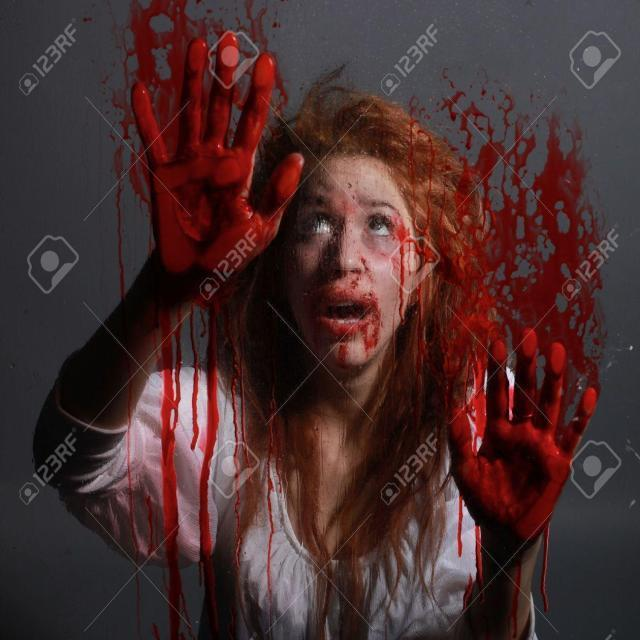flood: (406, 69, 598, 589), (120, 4, 284, 592)
